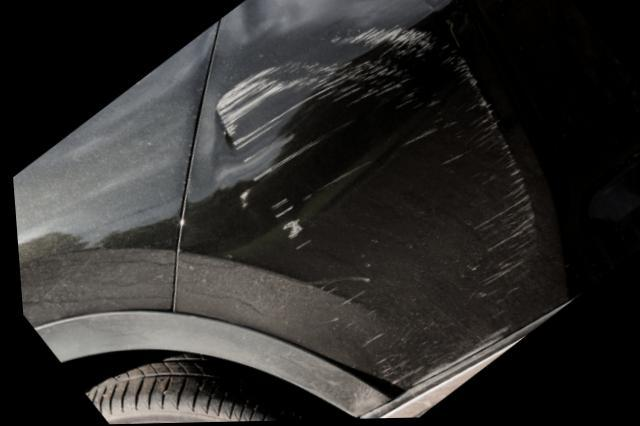dent: (243, 0, 317, 41)
scratch: (207, 27, 544, 394)
